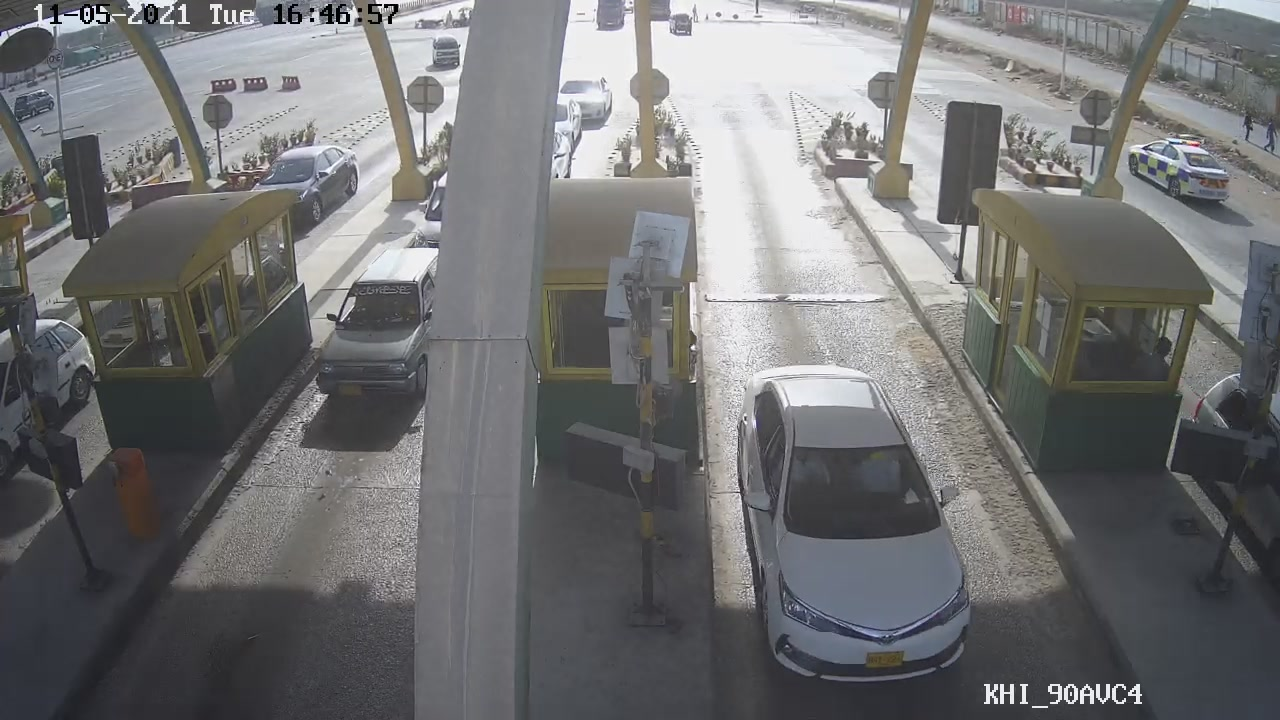F1: (730, 363, 985, 692)
